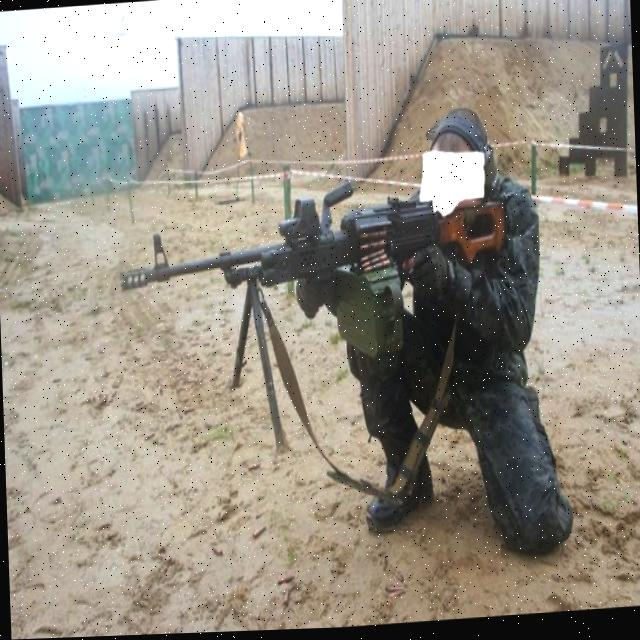firearm: (116, 171, 504, 375)
